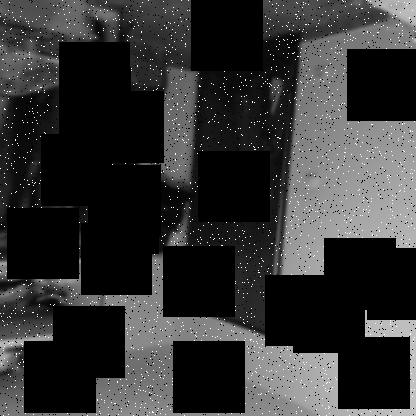Porte: (176, 34, 300, 342)
